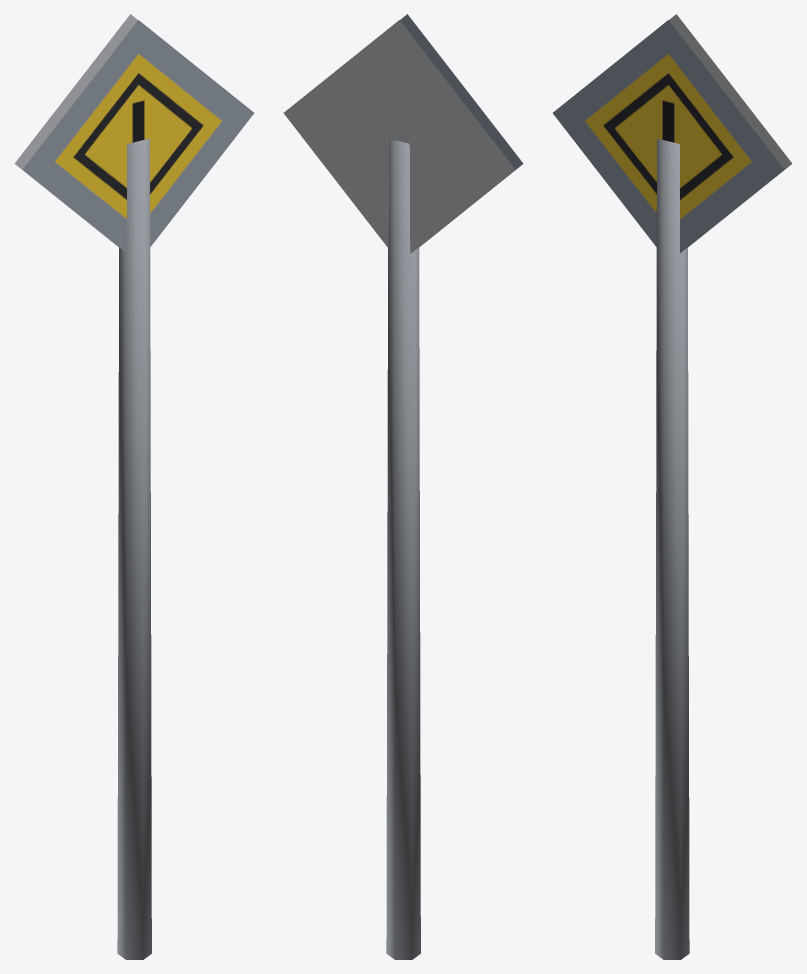
Rendered from prop-sign-warning2.glb.
3 views of the same model, side by side, from view 1: azimuth 30°, elevation 25°; view 2: azimuth 150°, elevation 25°; view 3: azimuth 330°, elevation 25° (orthographic).
Visible parts, largest first — view 1: sign-post, sign-face, sign-back; view 2: sign-post, sign-back, sign-face; view 3: sign-post, sign-face, sign-back.
Boxes of the visible parts, left/top/right/bottom form: sign-post: left=117, top=138, right=151, bottom=959; sign-face: left=22, top=20, right=253, bottom=252; sign-back: left=14, top=14, right=137, bottom=247; sign-post: left=386, top=139, right=420, bottom=959; sign-back: left=283, top=20, right=515, bottom=253; sign-face: left=400, top=14, right=523, bottom=246; sign-post: left=655, top=138, right=689, bottom=959; sign-face: left=553, top=20, right=784, bottom=252; sign-back: left=669, top=14, right=792, bottom=247.
Size of the model in its own units: 0.7 by 2.7 by 0.09.
Materials: 3 (1 with a texture image).
